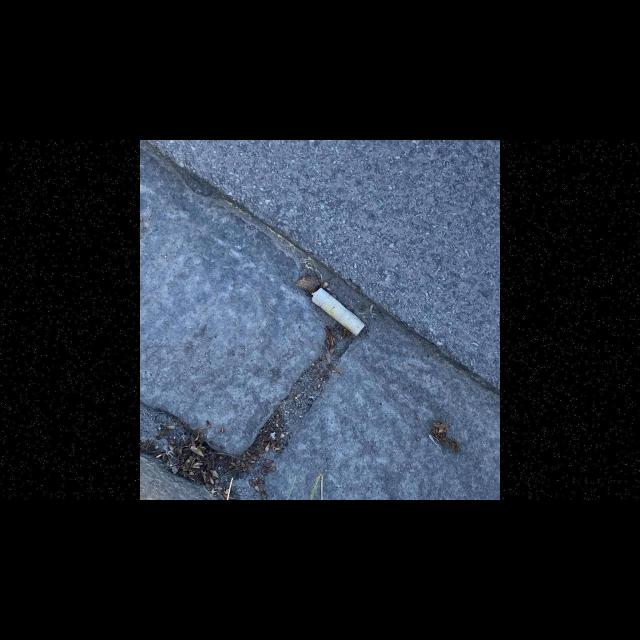cigarette: (311, 287, 366, 336)
